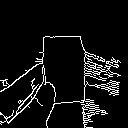cube: (33, 32, 92, 111)
